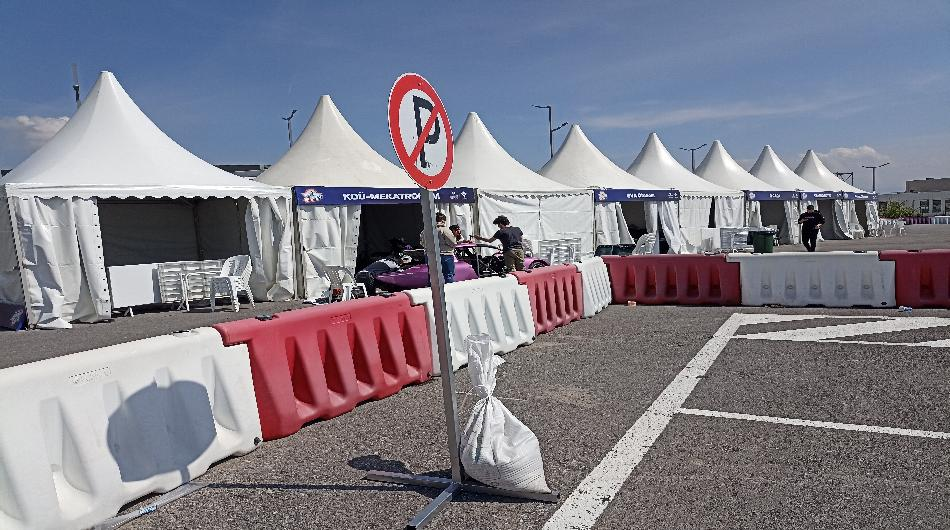park_yapilmaz_3: (379, 65, 465, 187)
